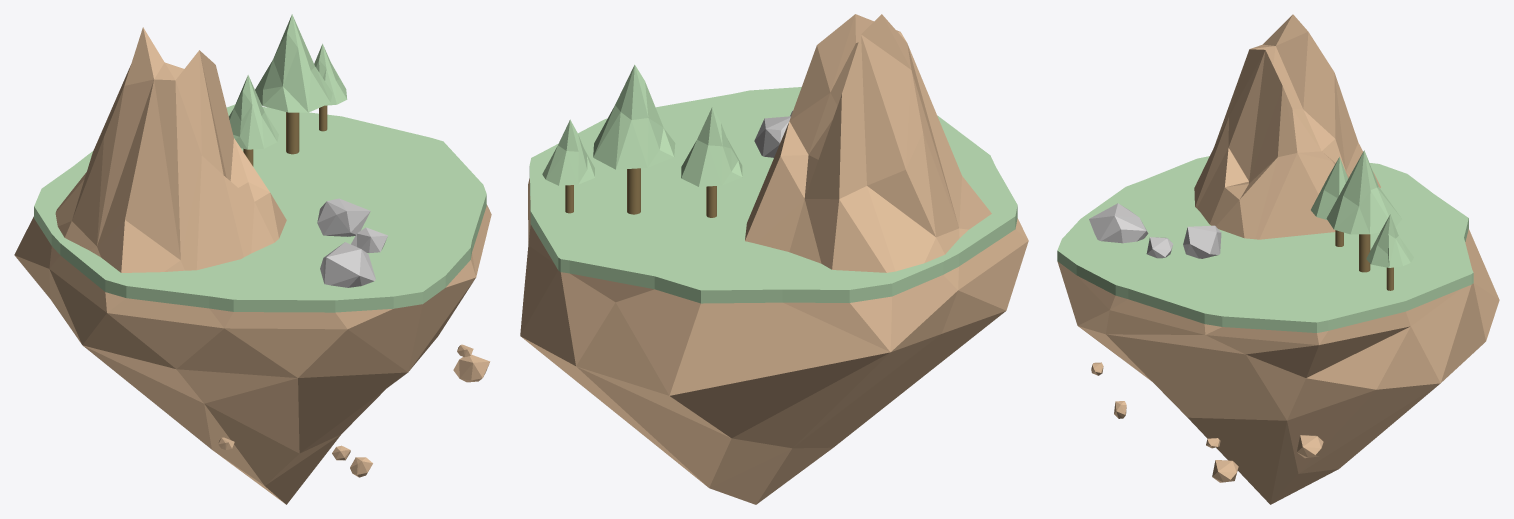
3 renders of one model, left to right at view 1: azimuth 30°, elevation 25°; view 2: azimuth 150°, elevation 25°; view 3: azimuth 270°, elevation 25°, orthographic. The views are drawn at different scales.
Parts seen in each view (by area): view 1: 球体 (×2), 立方体, 地形, 树叶 (×3), 球体.2, 球体.1, 球体.4, 树干; view 2: 球体, 立方体, 地形, 树叶 (×3), 球体.1, 树干; view 3: 球体, 立方体, 地形, 树叶 (×3), 球体.2, 球体.1, 球体.3, 球体.4.
Part boxes in pixels (box(x1,y1,x2,y2)): 球体 (×2): box(14, 204, 491, 504); 立方体: box(34, 104, 486, 312); 地形: box(55, 27, 286, 272); 树叶 (×3): box(229, 14, 347, 149); 球体.2: box(320, 242, 375, 287); 球体.1: box(317, 198, 370, 236); 球体.4: box(453, 354, 490, 382); 树干: box(286, 112, 299, 154); 球体: box(520, 178, 1028, 504); 立方体: box(529, 87, 1017, 303); 地形: box(745, 14, 991, 272); 树叶 (×3): box(542, 64, 742, 186); 球体.1: box(754, 116, 790, 157); 树干: box(627, 168, 640, 214); 球体: box(1057, 229, 1499, 504); 立方体: box(1057, 156, 1473, 332); 地形: box(1194, 14, 1380, 239); 树叶 (×3): box(1311, 150, 1413, 267); 球体.2: box(1089, 203, 1148, 243); 球体.1: box(1183, 225, 1221, 258); 球体.3: box(1297, 435, 1323, 458); 球体.4: box(1212, 460, 1238, 482).
Size of the model in its own units: 190 by 225 by 207.
